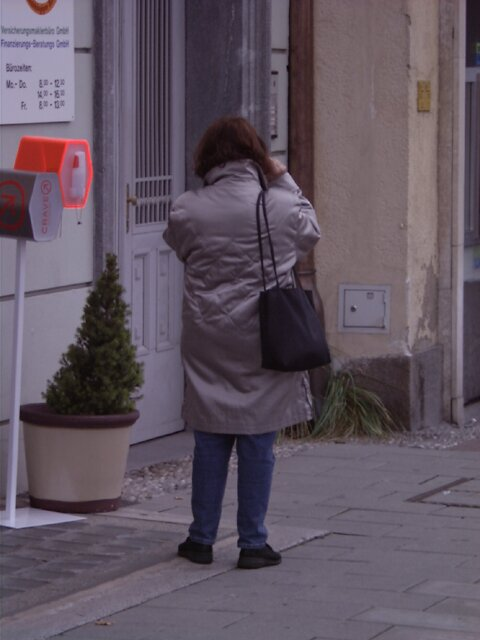person: (158, 111, 332, 577)
